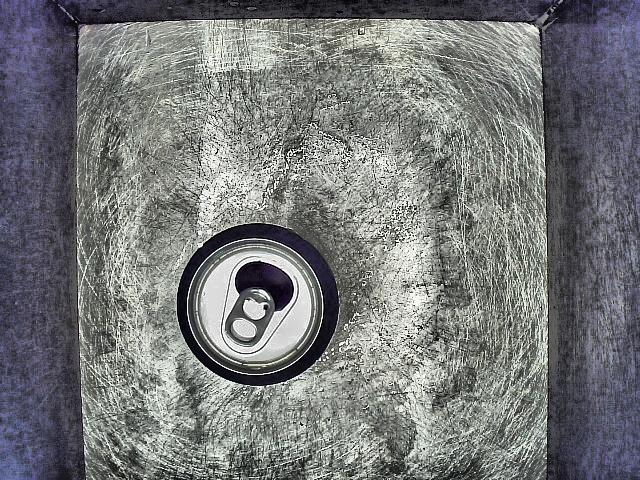Bottles: (160, 217, 405, 407)
